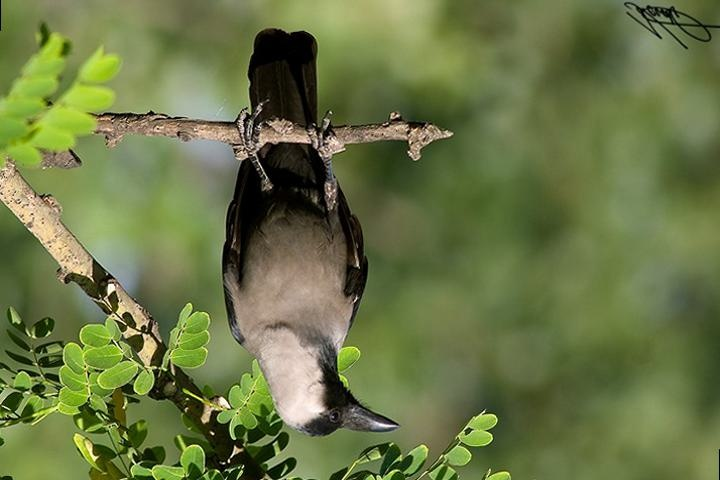crow: (182, 22, 418, 439)
